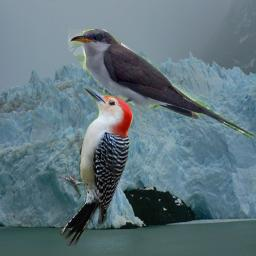Cuckoo: (68, 29, 254, 141)
Woodpecker: (58, 86, 133, 246)
